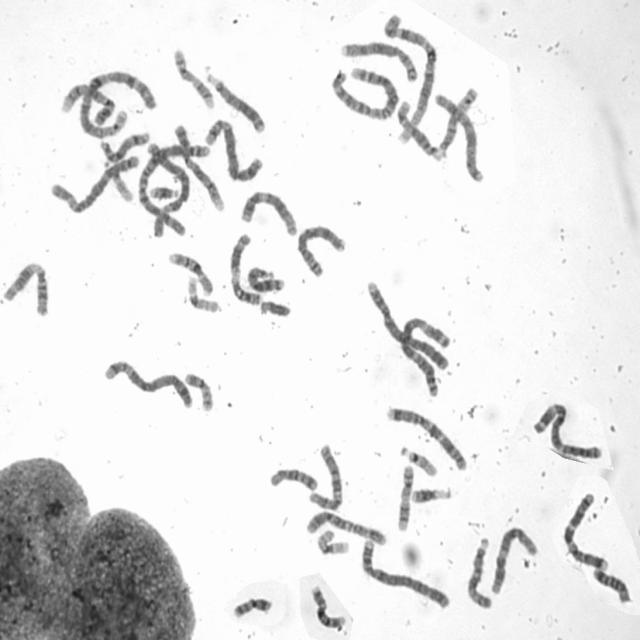A1: (381, 6, 439, 152), (76, 65, 159, 138)
A2: (138, 142, 212, 241), (328, 63, 400, 122)
A3: (532, 399, 604, 461), (398, 314, 450, 396)
B4: (362, 276, 452, 374), (357, 537, 451, 610)
B5: (101, 357, 196, 410), (201, 115, 265, 184)
C10: (303, 508, 388, 546), (306, 441, 345, 512)
C11: (2, 258, 52, 318), (226, 228, 263, 307)
C12: (488, 523, 540, 598), (237, 188, 299, 238)
C6: (47, 151, 141, 216), (145, 140, 191, 238)
C7: (383, 402, 469, 474), (560, 489, 611, 571)
C8: (339, 38, 420, 84), (294, 222, 348, 279)
C9: (170, 122, 227, 214), (59, 79, 118, 126)
D13: (202, 68, 267, 136), (246, 265, 285, 294)
D14: (392, 95, 450, 165), (97, 128, 152, 164)
D15: (434, 87, 479, 154), (464, 533, 494, 610)
E16: (166, 249, 214, 298), (308, 582, 348, 630)
E17: (170, 46, 217, 109), (394, 460, 416, 533)
E18: (590, 565, 632, 605), (267, 464, 319, 494)
F19: (185, 274, 222, 314), (314, 526, 351, 556)
F20: (181, 370, 214, 412), (230, 592, 274, 620)
G21: (409, 482, 454, 506), (147, 184, 181, 201)
G22: (396, 440, 438, 478), (104, 160, 134, 203)
X: (432, 89, 486, 184)
Y: (258, 297, 292, 319)
